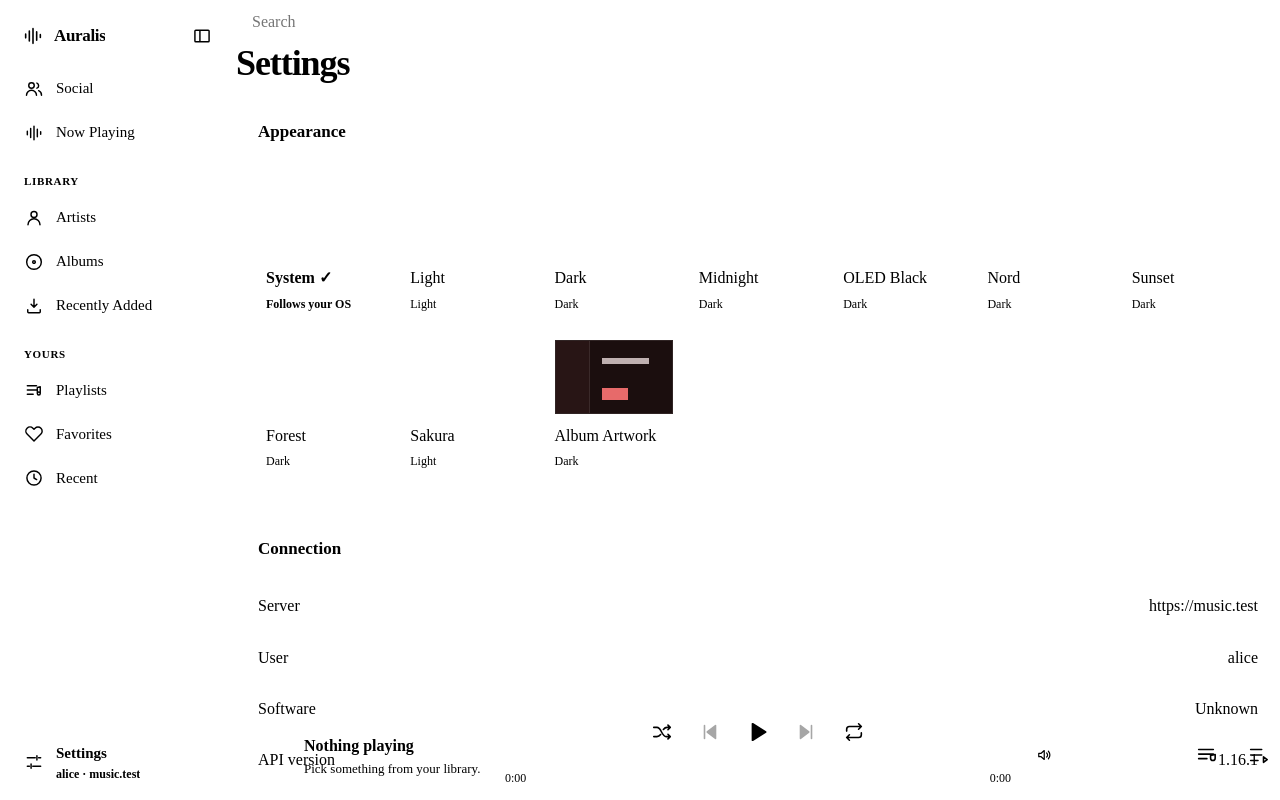
theme picker › previews the live Album Artwork palette on its swatch
Click the radio button labelled "Album Artwork": (614, 406) [547,332,681,480]
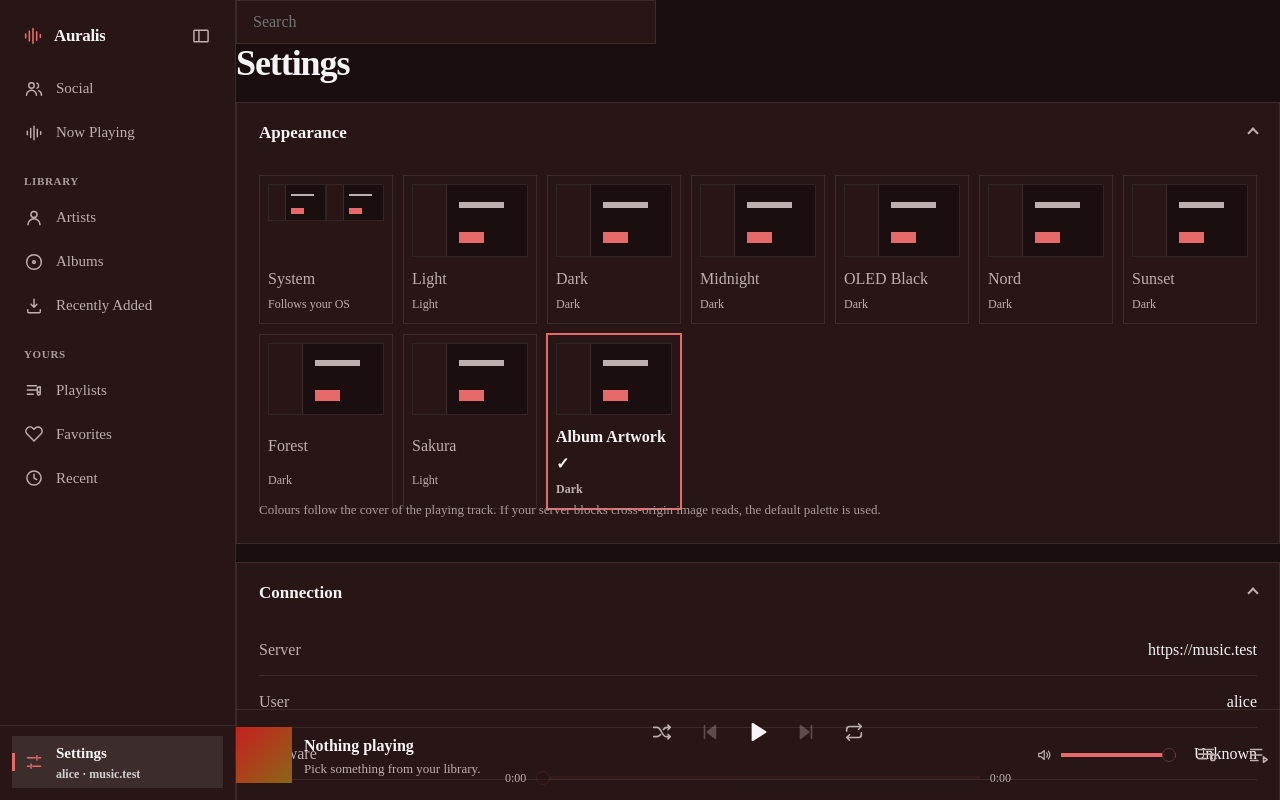
expect the text "Colours follow the cover" is shown: met, box [259,502,881,517]
